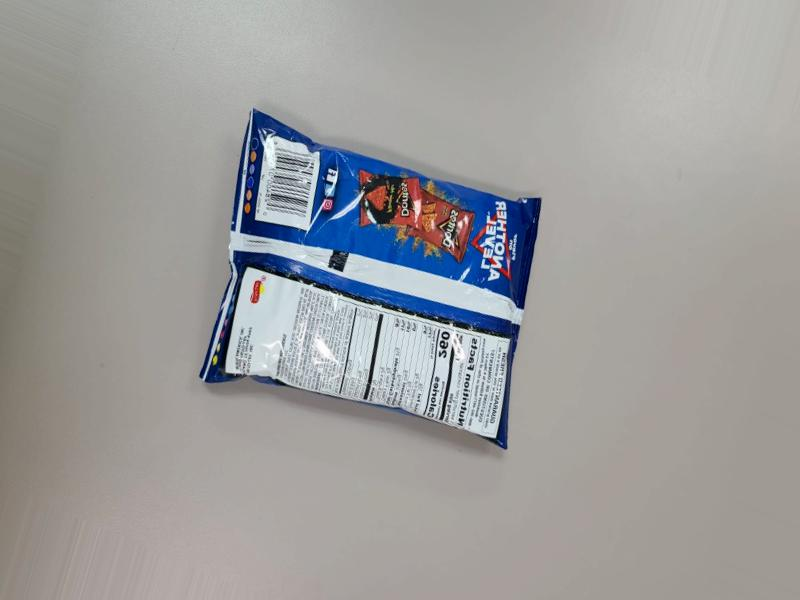doritos: (184, 98, 535, 480)
